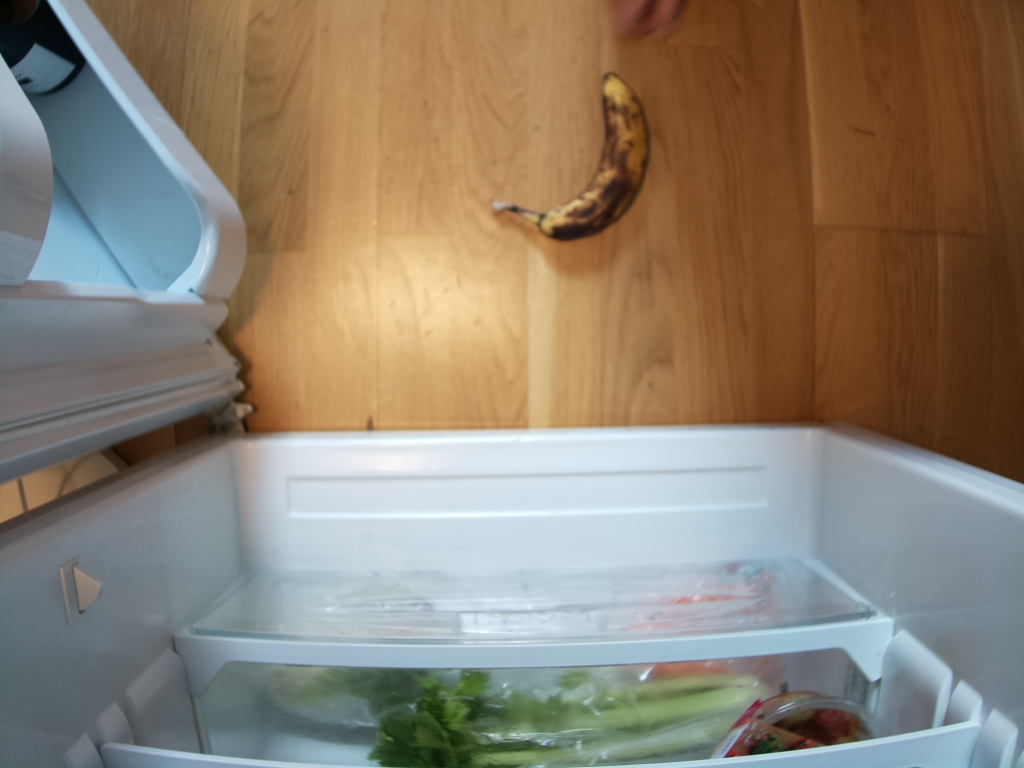banana-overripe: (489, 75, 649, 240)
